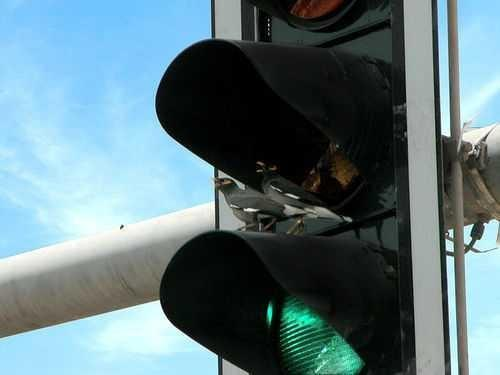red traffic light: (241, 252, 384, 375)
